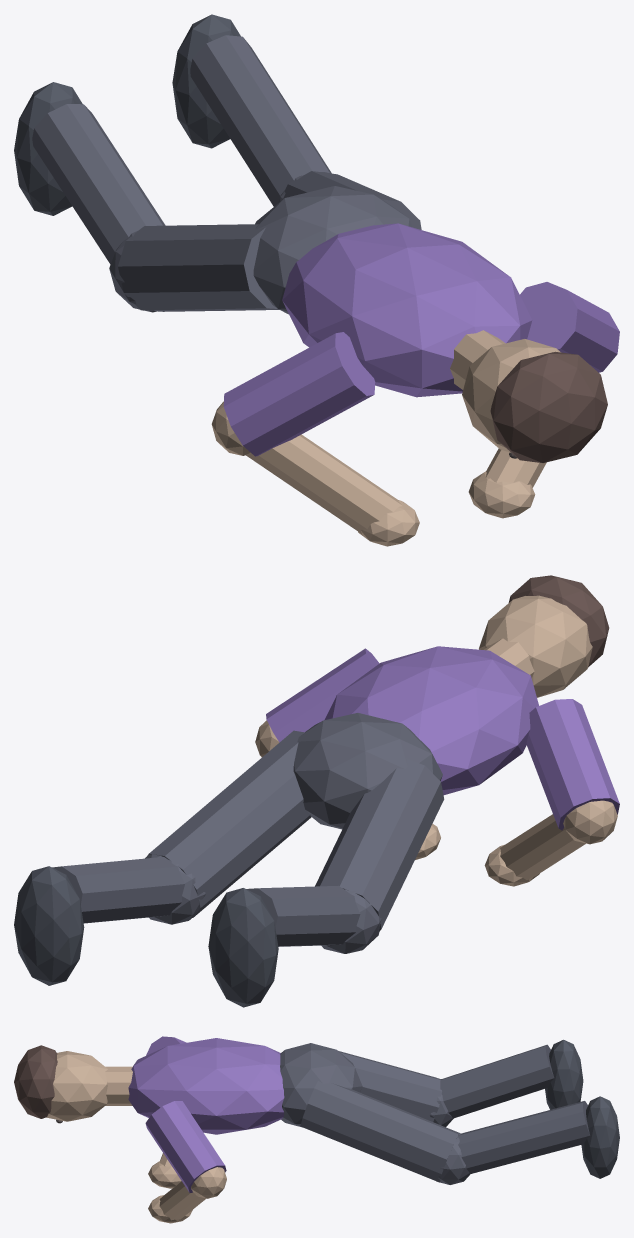
3 renders of one model, top to bottom at view 1: azimuth 30°, elevation 25°; view 2: azimuth 150°, elevation 25°; view 3: azimuth 270°, elevation 25°, orthographic. The views are drawn at different scales.
Parts seen in each view (by area): view 1: world; view 2: world; view 3: world.
Part boxes in pixels (x1,y1,x2,y2): world: (14,14,619,546); world: (14,575,619,1007); world: (14,1036,619,1223).
Bounding box in the file's own units: 0.93 × 0.565 × 1.99.
